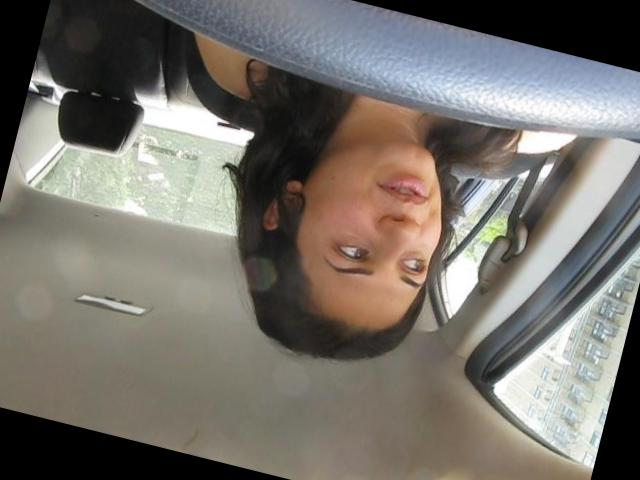eye_open: (330, 236, 378, 270), (396, 252, 429, 281)
face: (302, 124, 462, 314)
